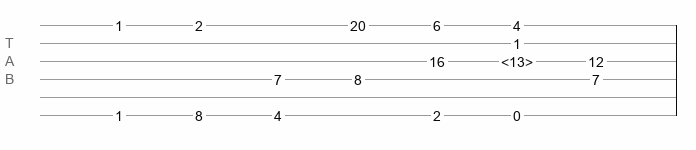0: (513, 108, 521, 118)
1: (115, 18, 123, 28), (115, 108, 123, 118), (513, 36, 521, 46)
12: (588, 54, 604, 64)
16: (429, 54, 445, 64)
2: (195, 18, 203, 28), (433, 108, 441, 118)
20: (350, 18, 366, 28)
4: (274, 108, 282, 118), (513, 18, 521, 28)
6: (433, 18, 441, 28)
7: (274, 72, 282, 82), (592, 72, 600, 82)
8: (195, 108, 203, 118), (354, 72, 362, 82)
harmonic: (501, 54, 533, 64)
